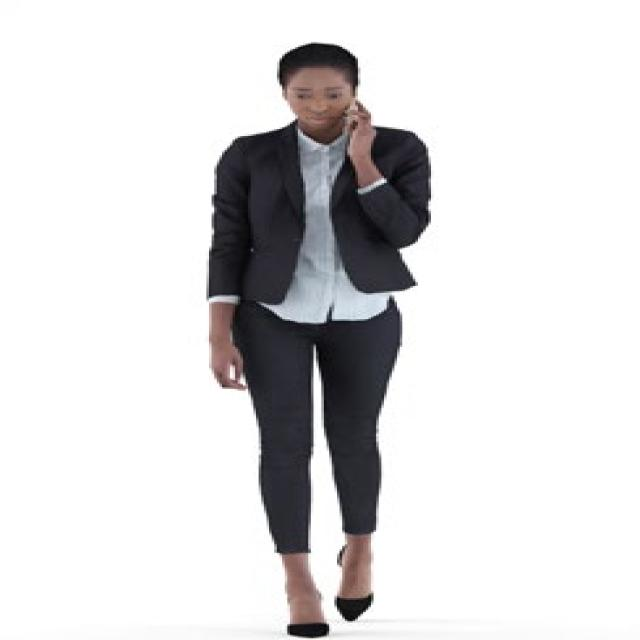standing: (199, 41, 453, 640)
